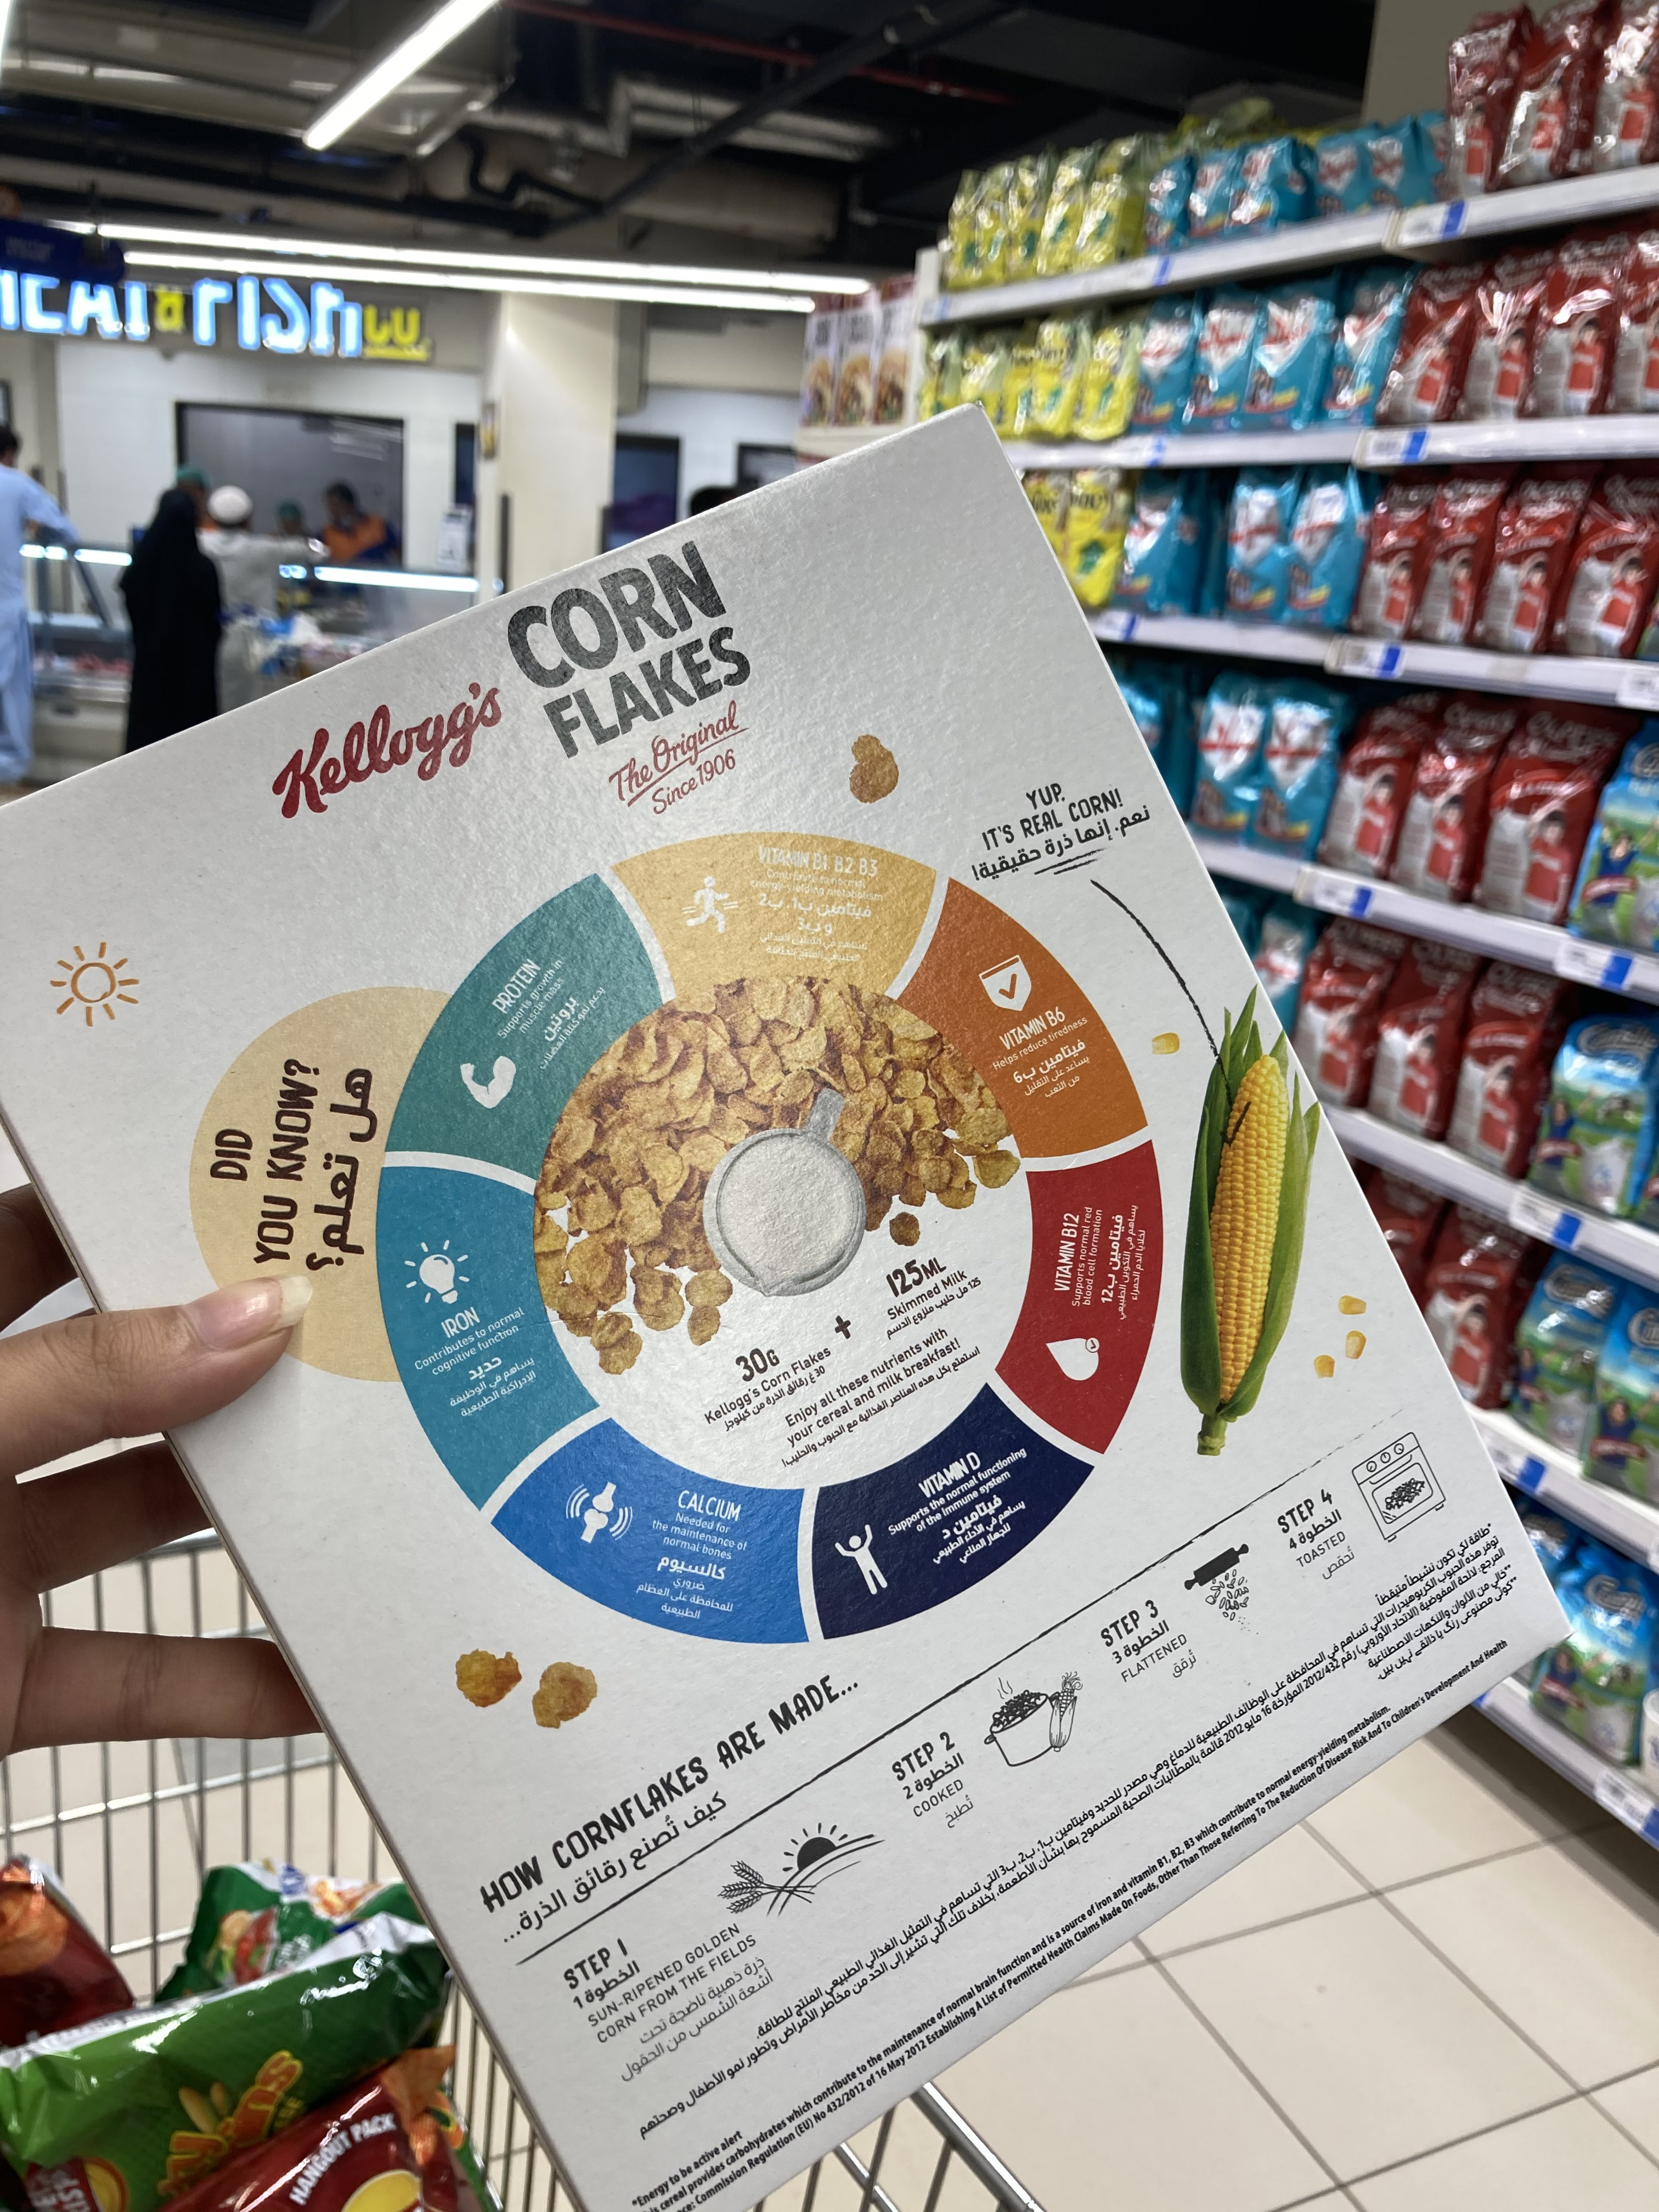Kellogg's Corn Flakes: (5, 409, 1575, 2212)
